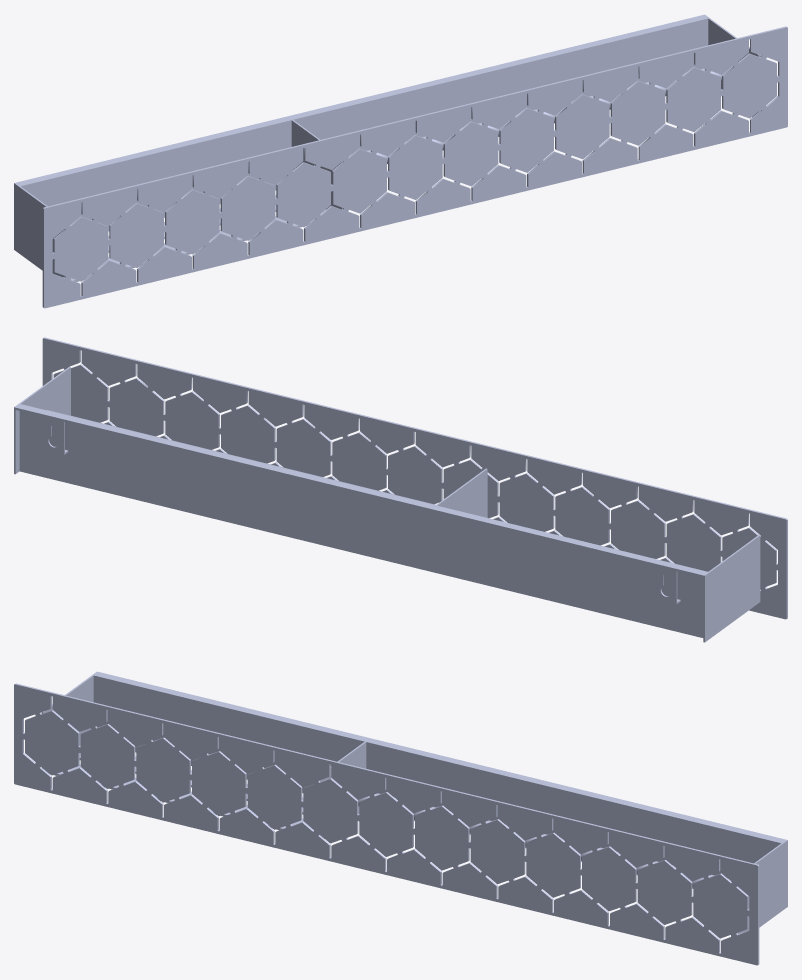
Rendered from bee-double.0721e98feb.glb.
3 renders of one model, top to bottom at view 1: azimuth 30°, elevation 25°; view 2: azimuth 150°, elevation 25°; view 3: azimuth 330°, elevation 25°, orthographic.
Parts seen in each view (by area): view 1: NAUO1; view 2: NAUO1; view 3: NAUO1.
Boxes of the visible parts, x1=… form: NAUO1: x1=14, y1=14, x2=787, y2=308; NAUO1: x1=14, y1=337, x2=787, y2=642; NAUO1: x1=14, y1=671, x2=787, y2=965.
Size of the model in its own units: 0.7 by 0.09 by 0.092.
